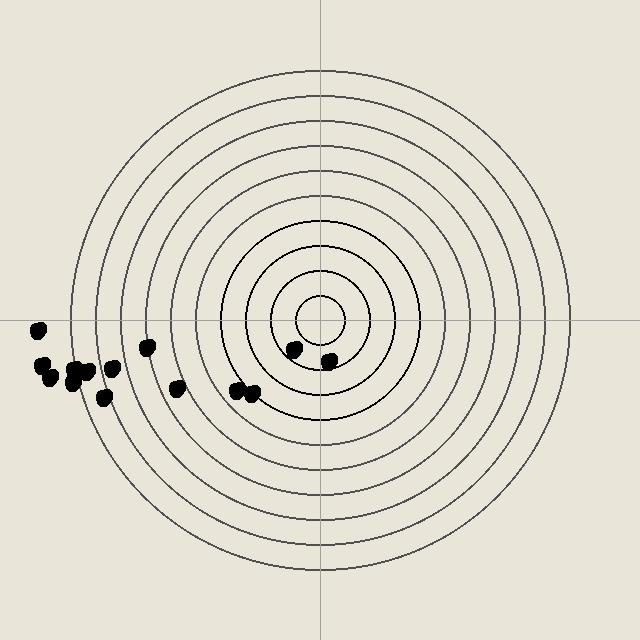horizontal_scatter: (166, 378, 186, 398), (318, 351, 338, 371), (93, 387, 113, 407), (62, 372, 82, 392), (27, 320, 47, 340), (31, 355, 51, 375), (63, 359, 83, 379), (76, 361, 96, 381), (241, 383, 261, 403), (136, 337, 156, 357), (283, 339, 303, 359), (226, 380, 246, 400), (39, 367, 59, 387), (101, 358, 121, 378)
